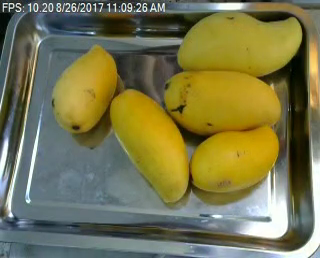Mango: (101, 85, 192, 201), (176, 11, 302, 78), (156, 68, 280, 134), (184, 124, 277, 192), (51, 41, 121, 129)
